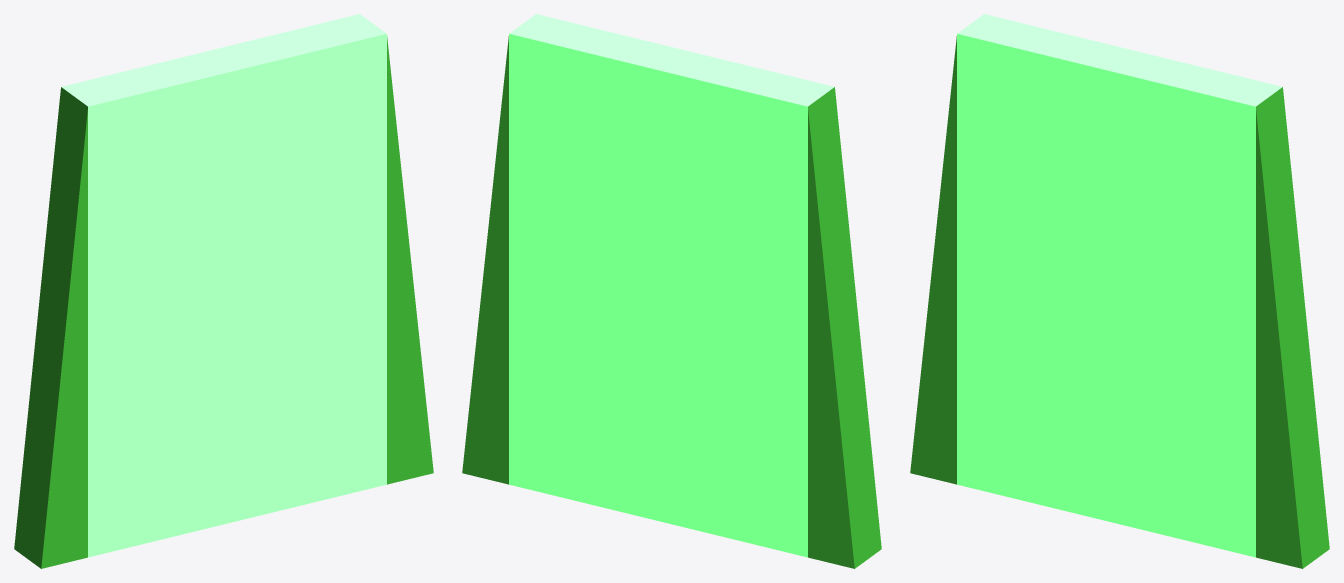
The model's file is portal_green.fbx.
The picture shows the model from 3 angles, left to right: view 1: azimuth 30°, elevation 25°; view 2: azimuth 150°, elevation 25°; view 3: azimuth 330°, elevation 25°; orthographic projection.
Visible parts, largest first — view 1: Cube; view 2: Cube; view 3: Cube.
Part boxes in pixels (x1,y1,x2,y2): Cube: (14, 14, 433, 568); Cube: (462, 14, 881, 568); Cube: (910, 14, 1329, 568).
Bounding box in the file's own units: 199 × 218 × 23.75.
